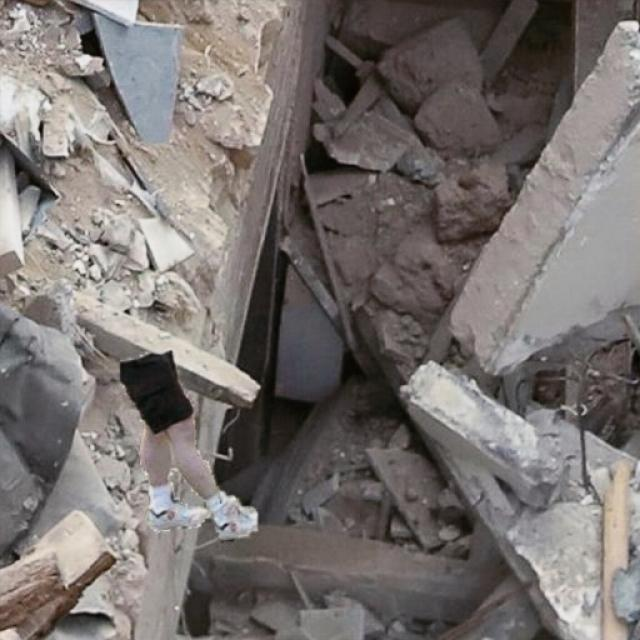Person in Rubble: (120, 348, 256, 542)
